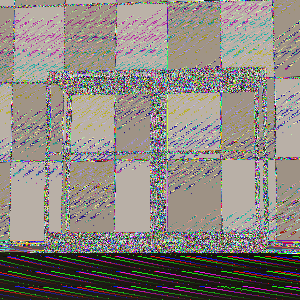Rack: (43, 65, 270, 254)
